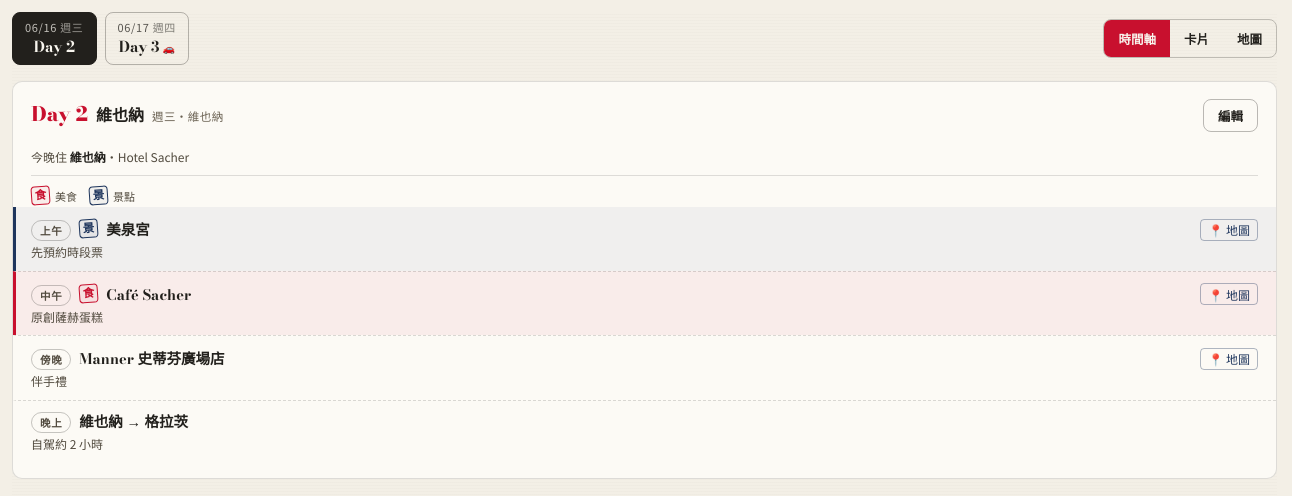
DailyPlan 多城市資訊 › 標題下方寫出當天的移動與今晚住哪
expect the text "今晚住 維也納・Hotel Sacher" is shown: met, box [31, 148, 189, 165]
Click the button "06/17 週四 Day 3🚗" at point(147, 38), box [104, 12, 189, 65]
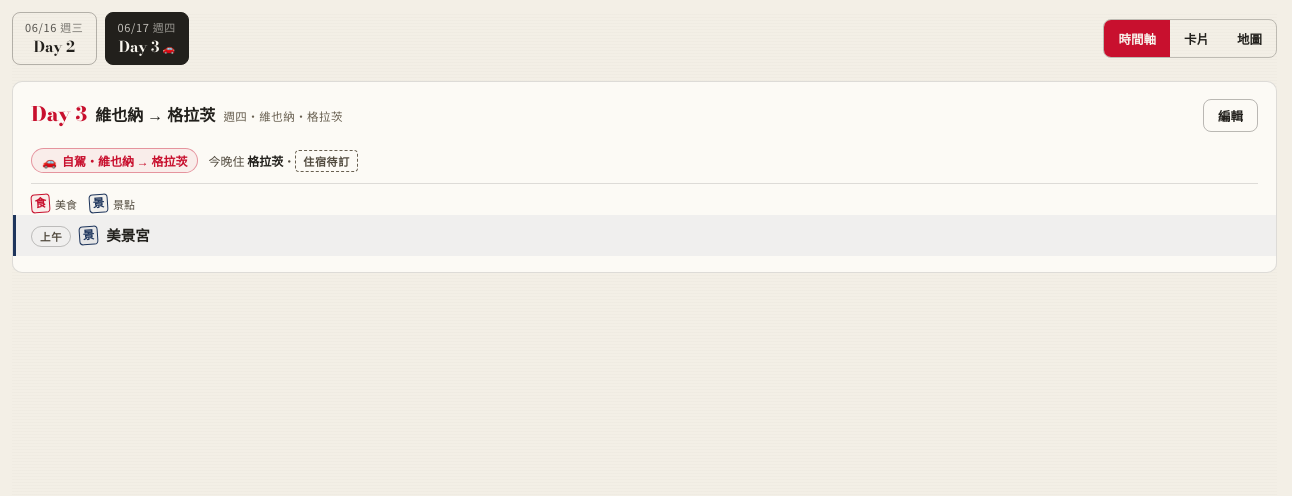
expect the text "🚗 自駕・維也納 → 格拉茨" is shown: met, box [31, 148, 198, 173]
expect the text "住宿待訂" is shown: met, box [295, 150, 358, 172]
